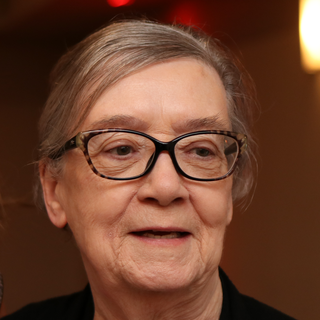eye: (98, 139, 141, 161), (180, 141, 220, 160)
